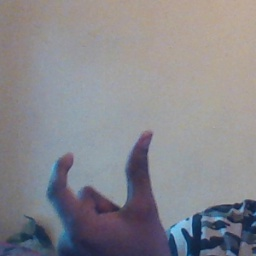U: (46, 119, 169, 256)
